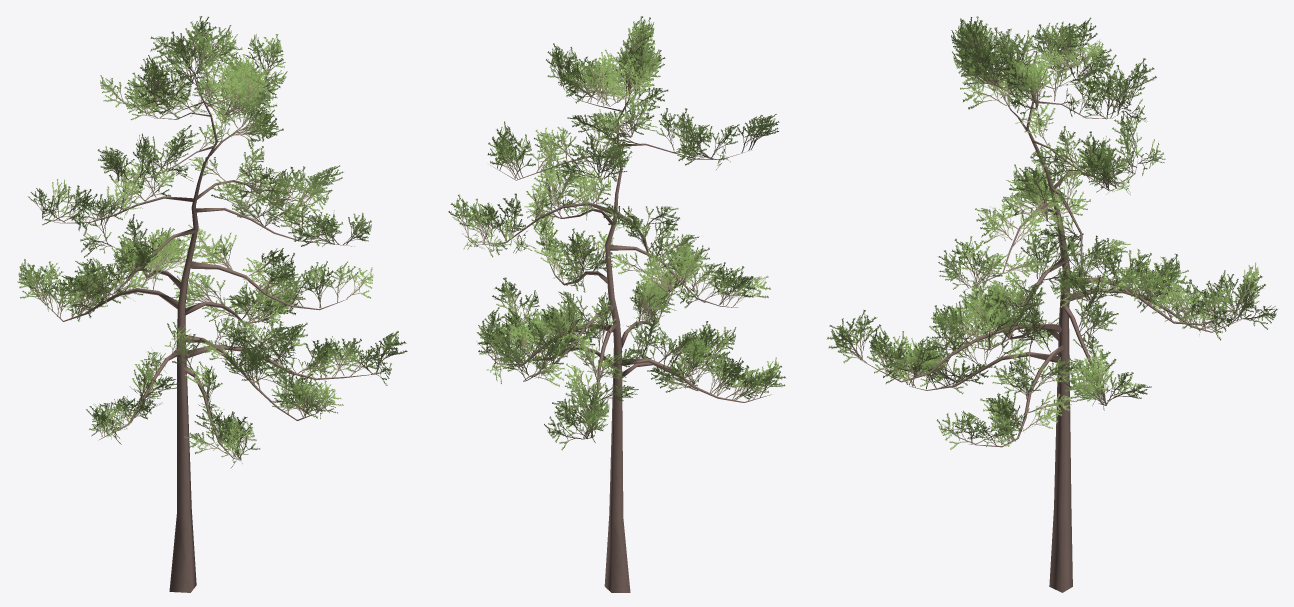
The model's file is tree_Pine_B_L1_LOD1.fbx.
The picture shows the model from 3 angles, left to right: view 1: azimuth 30°, elevation 25°; view 2: azimuth 150°, elevation 25°; view 3: azimuth 270°, elevation 25°; orthographic projection. The views are drawn at different scales.
Parts seen in each view (by area): view 1: Pine_B_L1_LOD1; view 2: Pine_B_L1_LOD1; view 3: Pine_B_L1_LOD1.
Part boxes in pixels (<box>): Pine_B_L1_LOD1: <box>17,16,407,592</box>; Pine_B_L1_LOD1: <box>448,16,785,592</box>; Pine_B_L1_LOD1: <box>826,16,1277,592</box>.
Bounding box in the file's own units: 1313 × 2198 × 1577.
